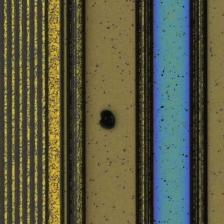PARTICLE: (94, 106, 122, 134)
